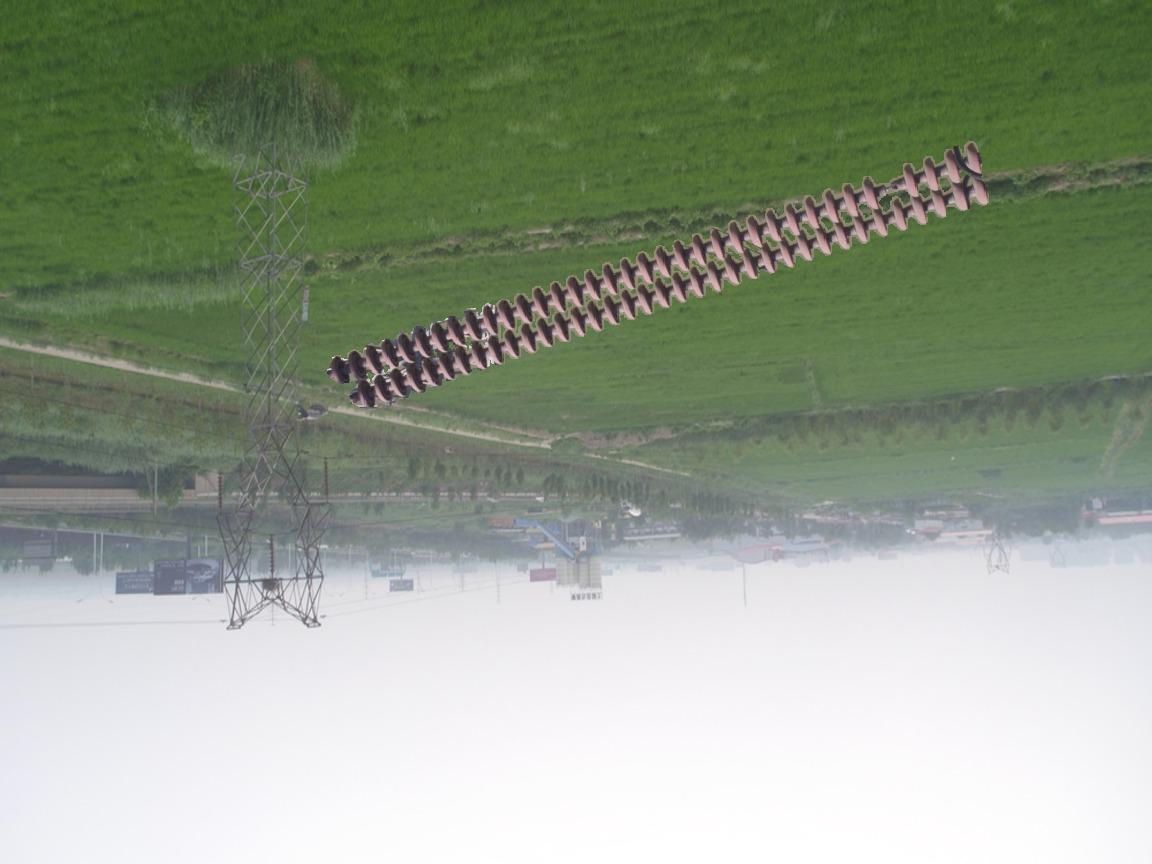insulator: (322, 136, 993, 415)
insulator_stringdrop: (859, 160, 922, 213)
